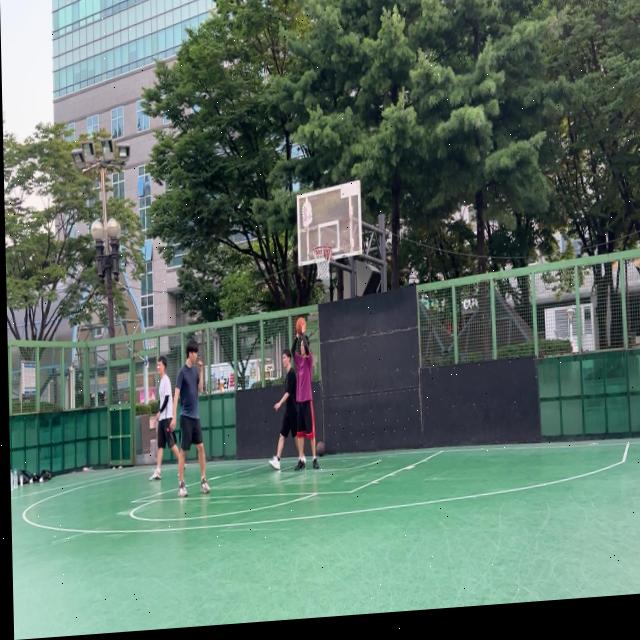basketball: (295, 317, 306, 335), (316, 441, 326, 458)
hoop: (312, 244, 334, 281)
